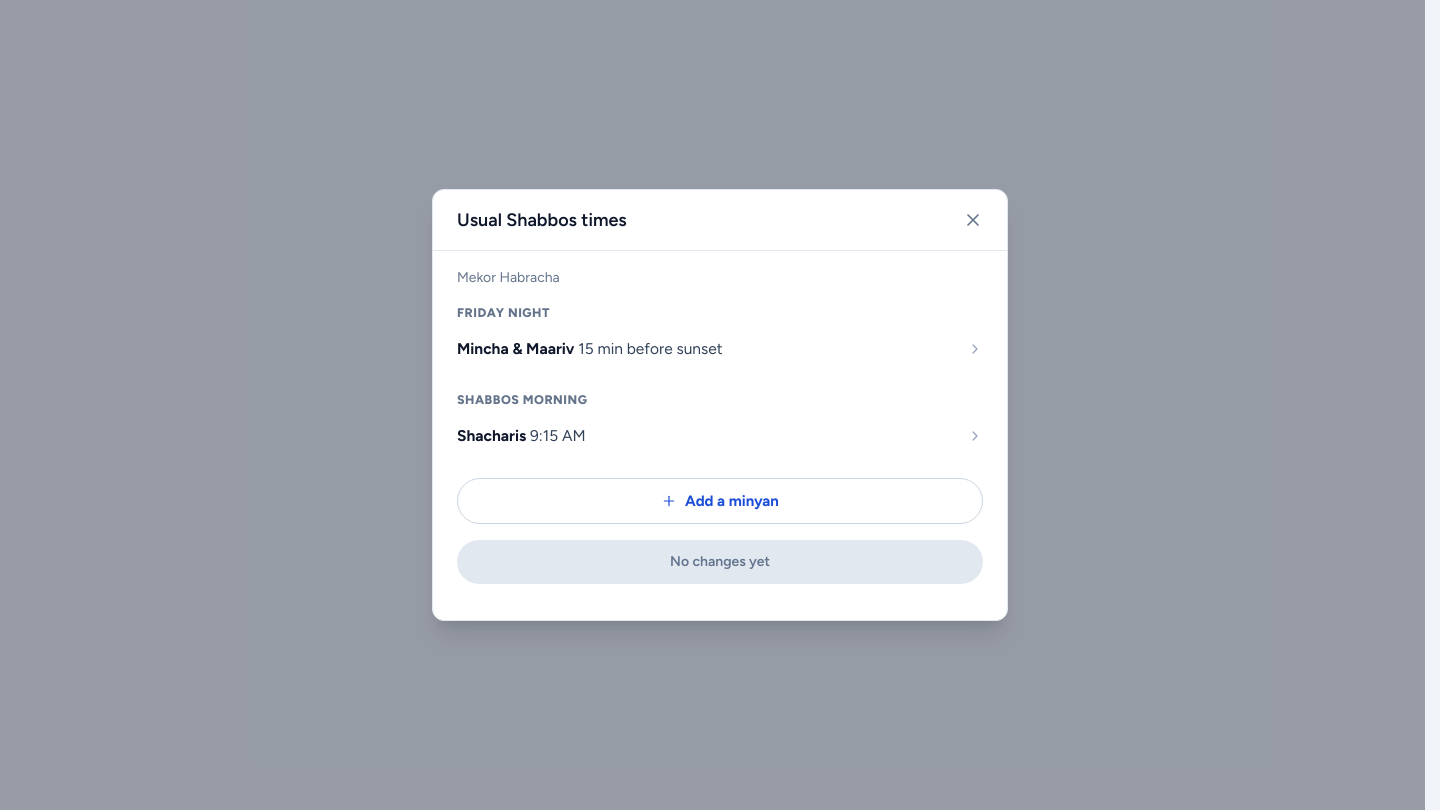
Scenario: BoxEditor, a shul’s usual Shabbos times › Back from a minyan leaves it as it was
Click the button "Shacharis 9:15 AM" at (492, 436), box [457,410,983,462]
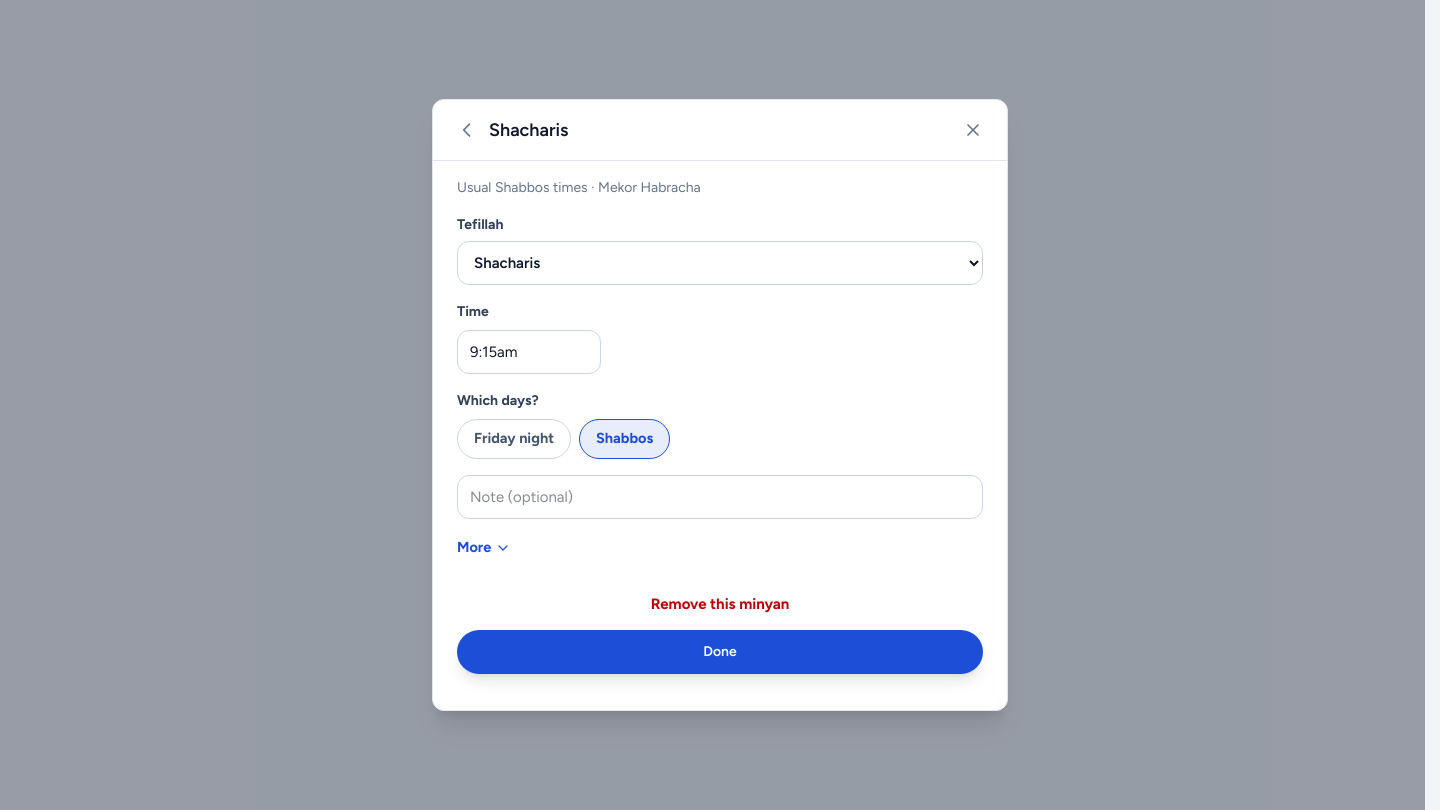
Replace the text in the field named "Time" with "9:30am" at (529, 352), box [457,330,601,374]
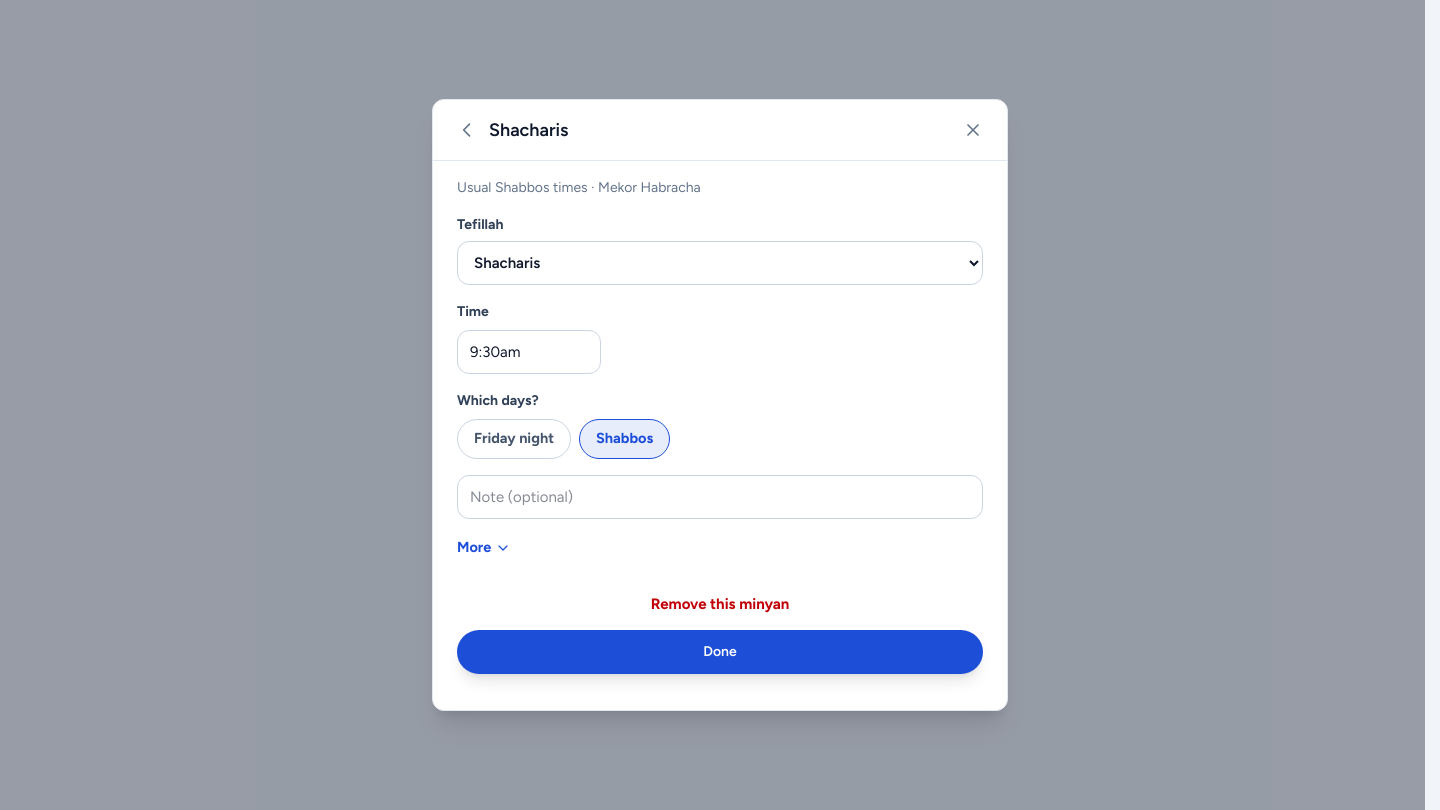
Click the button named "back" at (467, 130), box [453,116,481,144]
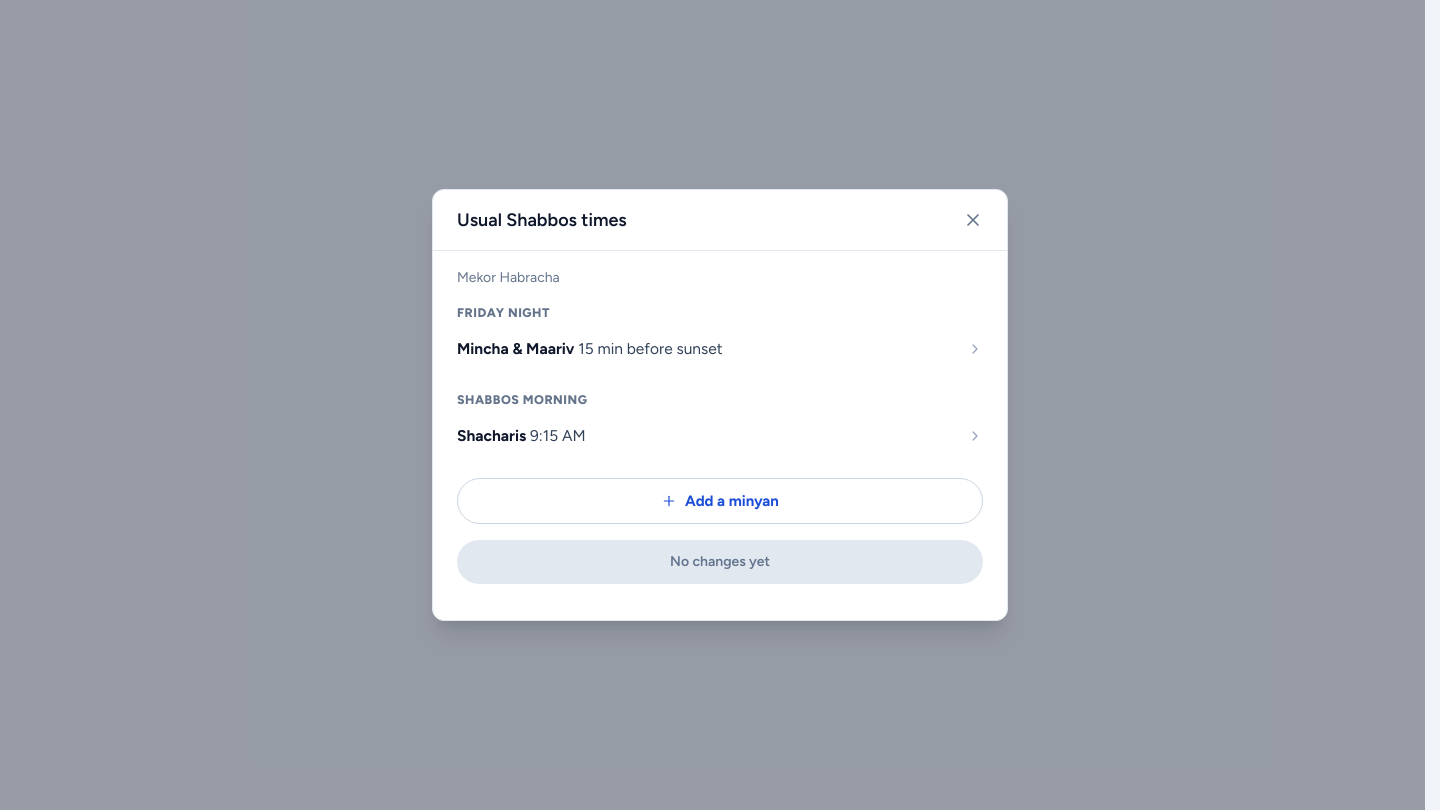
Result: the button "Shacharis 9:15 AM" is shown at [457,410,983,462]
Result: the button "No changes yet" is disabled at [457,540,983,584]
